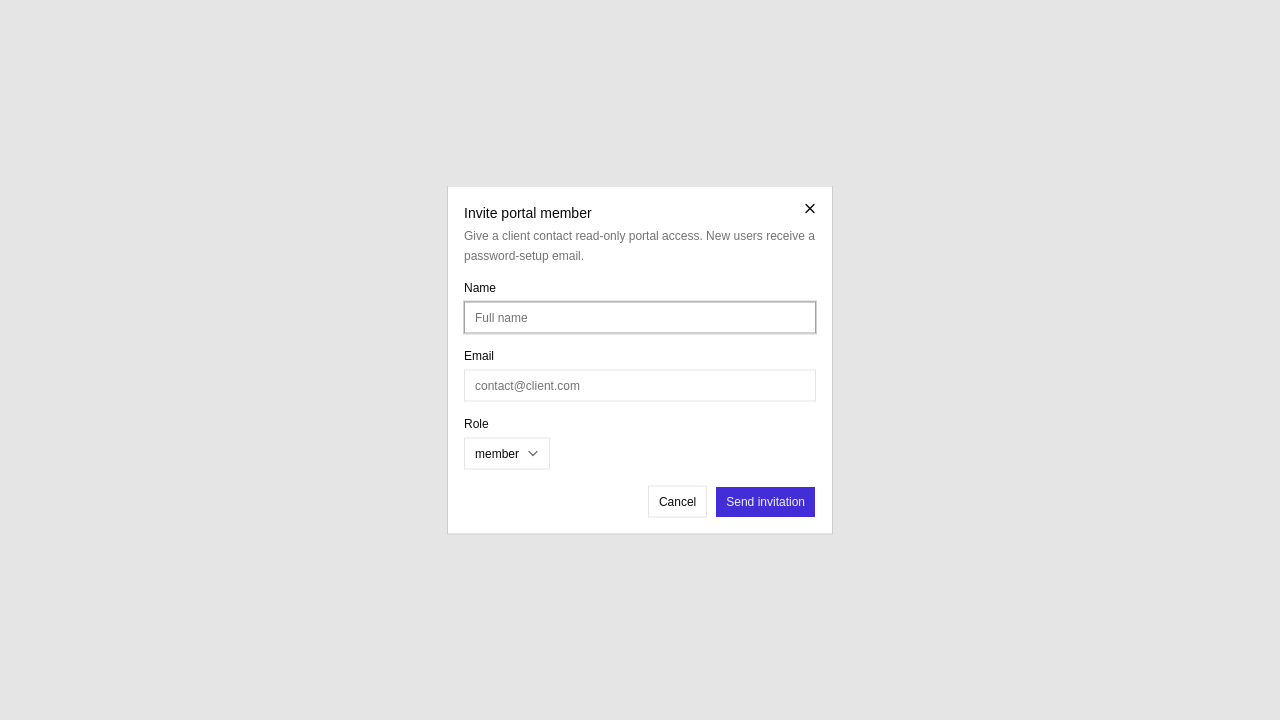
Test: InviteClientMemberDialog › disables submit while pending
This screenshot has width=1280, height=720.
Type "Pending Contact" into the field labelled "Name".
click(640, 318); type("Pending Contact")  # box [464, 302, 816, 334]
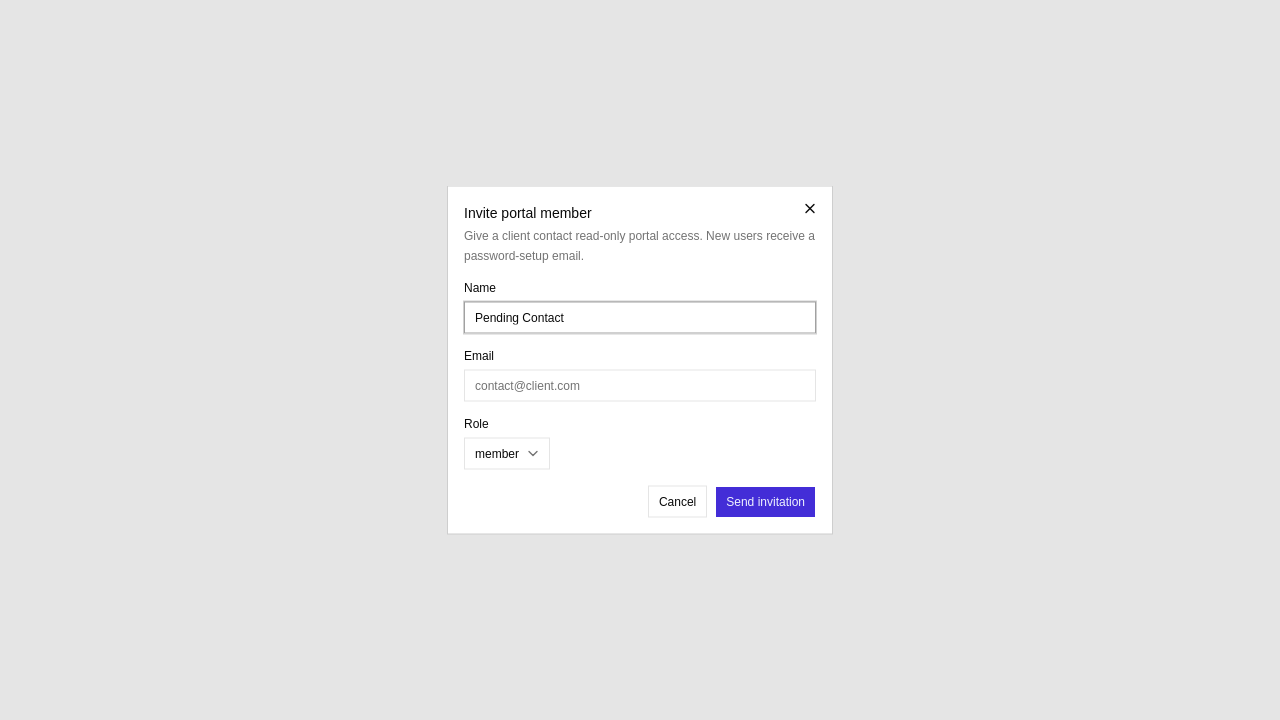
Type "pending@bigco.com" into the field labelled "Email".
click(640, 386); type("pending@bigco.com")  # box [464, 370, 816, 402]
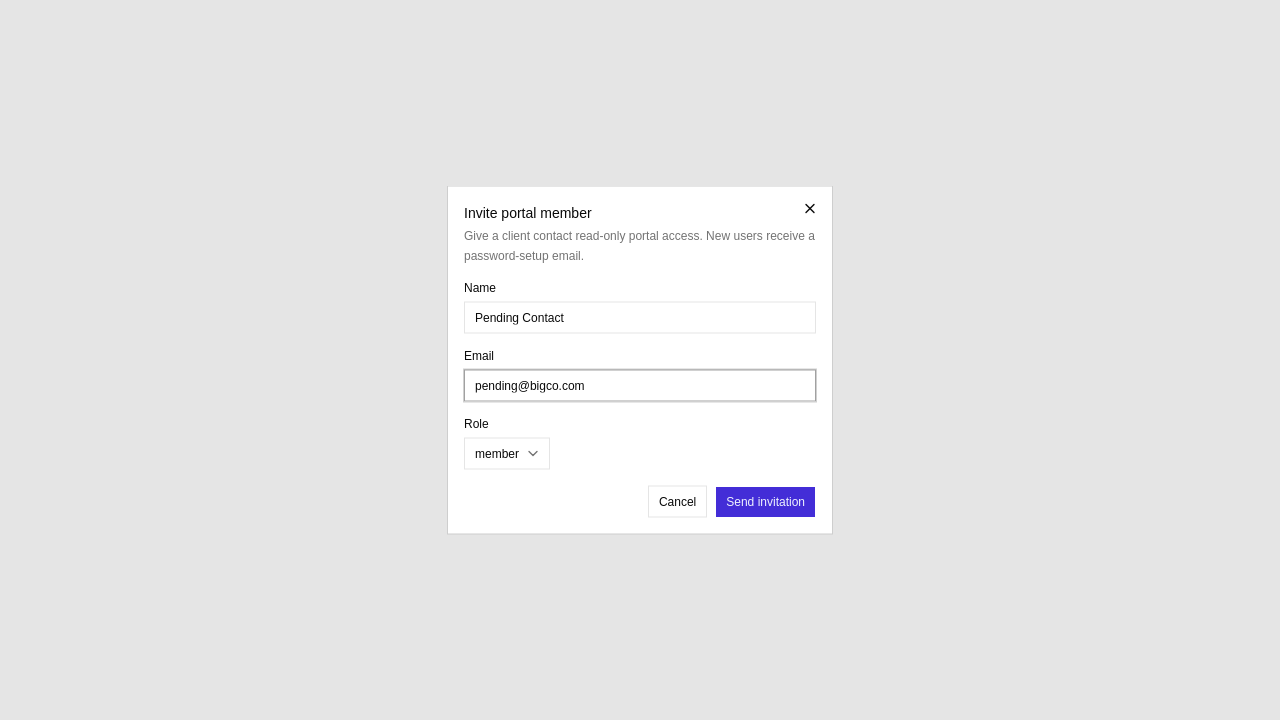
Click the button "Send invitation".
click(766, 502)  # box [715, 486, 816, 518]
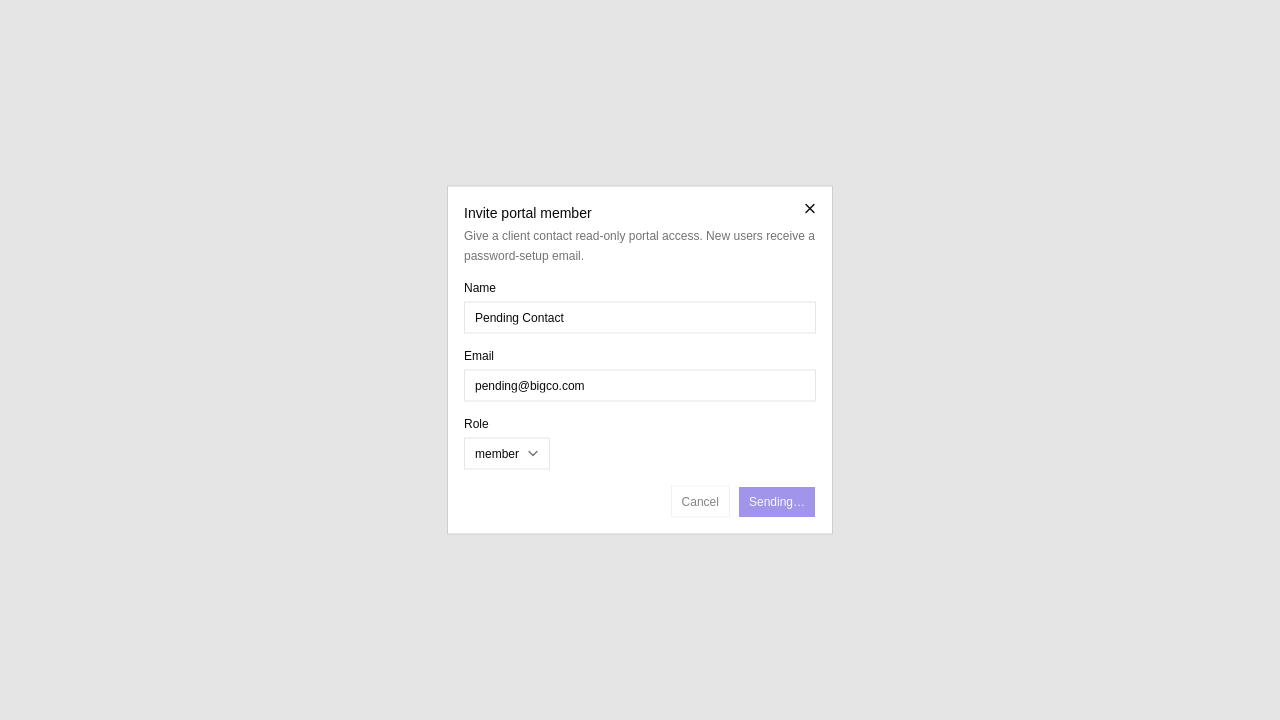
expect the button "Sending…" is disabled: met, box [738, 486, 816, 518]
